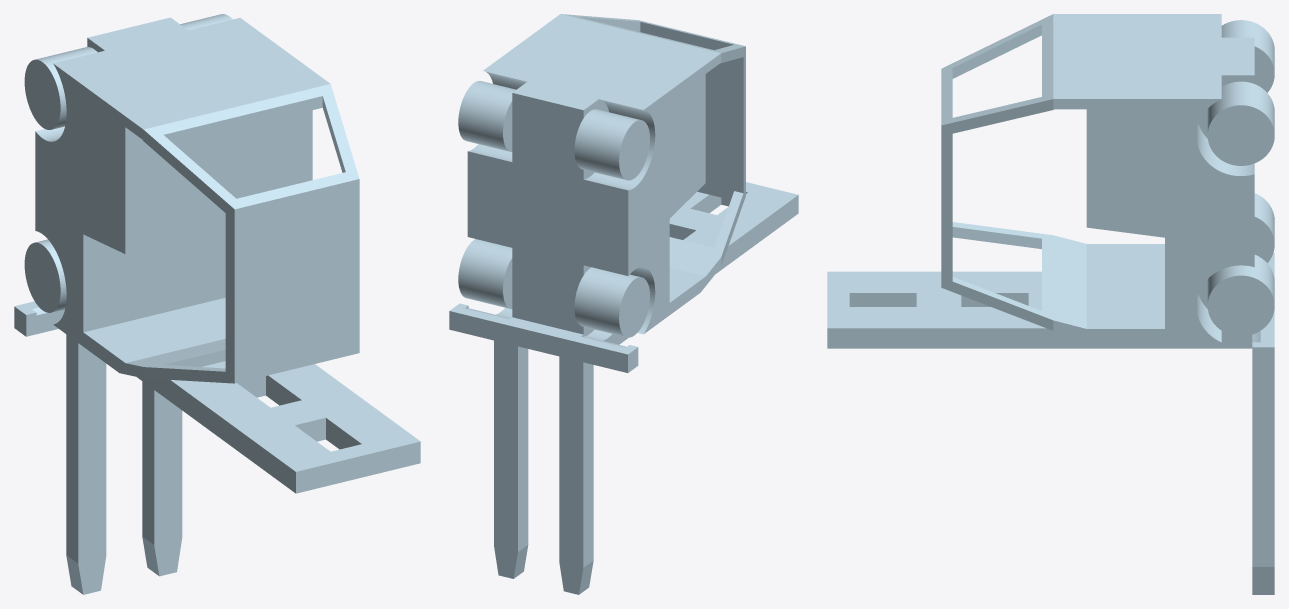
The model's file is Gabelstapler.gltf.
The picture shows the model from 3 angles, left to right: view 1: azimuth 30°, elevation 25°; view 2: azimuth 150°, elevation 25°; view 3: azimuth 270°, elevation 25°; orthographic projection. The views are drawn at different scales.
Parts seen in each view (by area): view 1: Part 1; view 2: Part 1; view 3: Part 1.
Part boxes in pixels (left/top/right/bottom): Part 1: left=14, top=14, right=420, bottom=594; Part 1: left=449, top=14, right=798, bottom=594; Part 1: left=827, top=14, right=1274, bottom=594.
Size of the model in its own units: 0.1 by 0.255 by 0.2.
